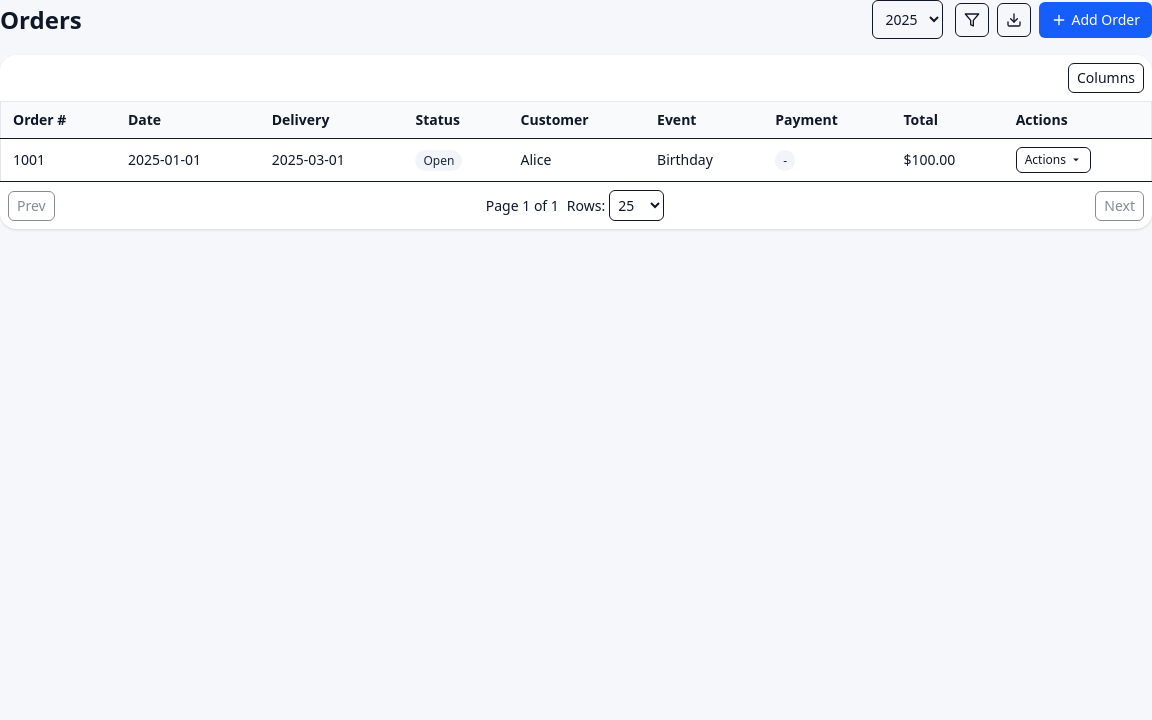
Test: Orders page › opens edit dialog when row clicked
Check: the text "1001" is shown, box [0,138,116,182]
What coordinates should you click on to do the following:
click the text "1001"
I would click on:
 (576, 160)
Its box is [0,138,1151,182].
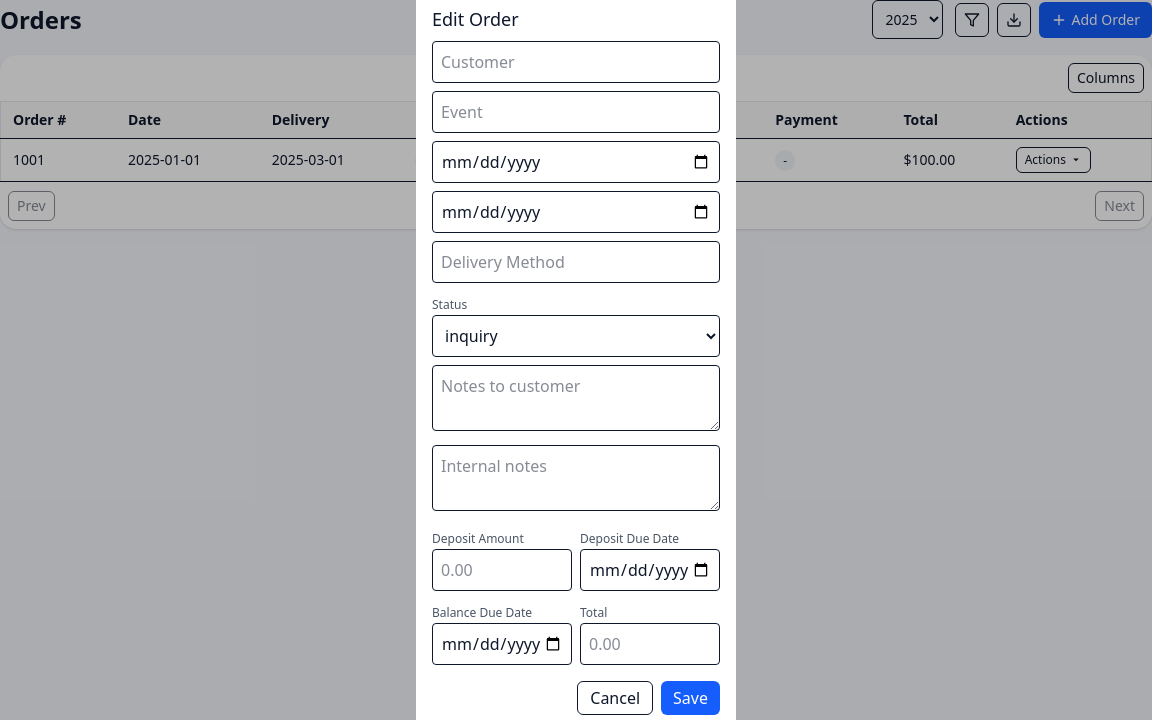
Check: the heading "Edit Order" is shown, box [432,7,519,31]
